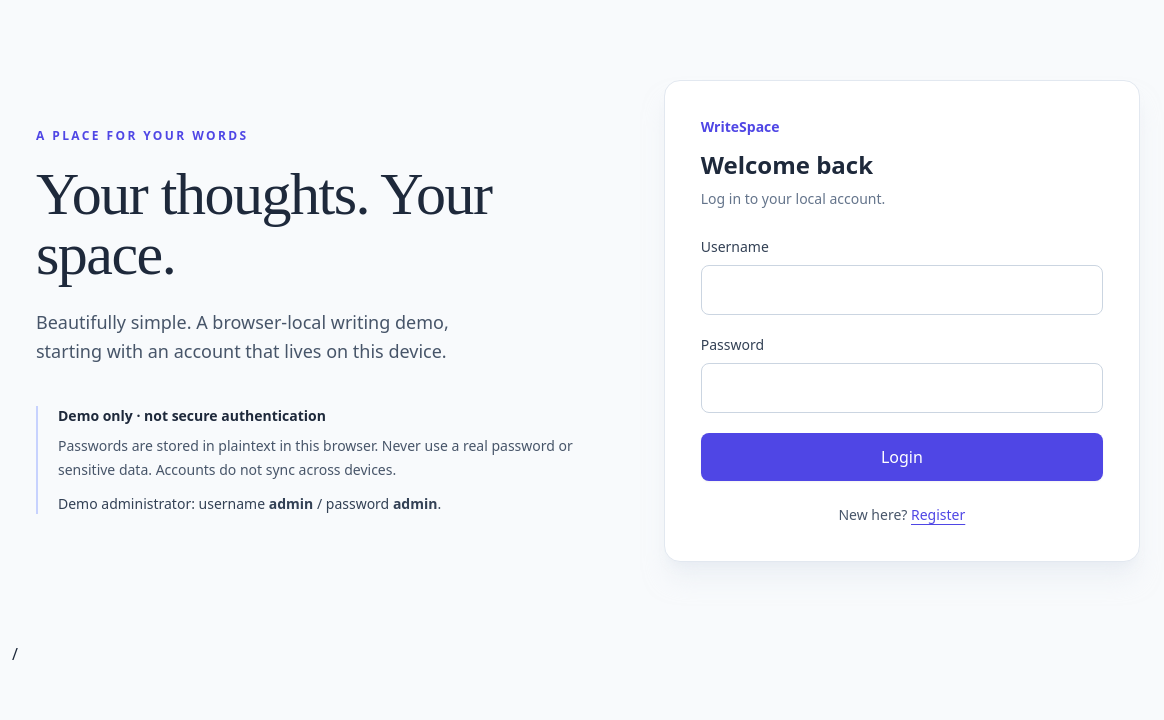
Test: LoginPage.jsx › shows visible demo warning, credential hint and required field errors
Expected: the text "Passwords are stored in plaintext" is shown, [58,436,573,479]
Expected: the text "Demo administrator: username admin / password admin." is shown, [58,494,441,513]
Click the button "Login": (902, 457) [701,433,1103,481]
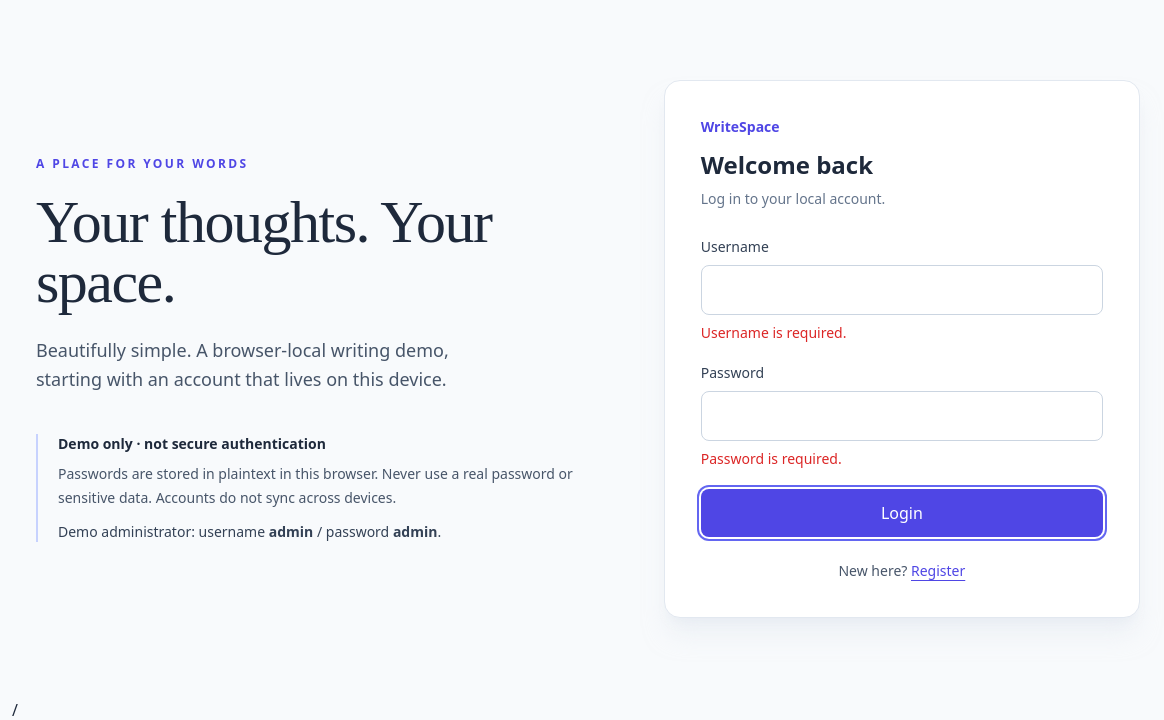
Expected: the text "Username is required." is shown, [701,323,846,342]
Expected: the text "Password is required." is shown, [701,449,842,468]
Click the link "Register": (938, 570) [911,561,965,580]
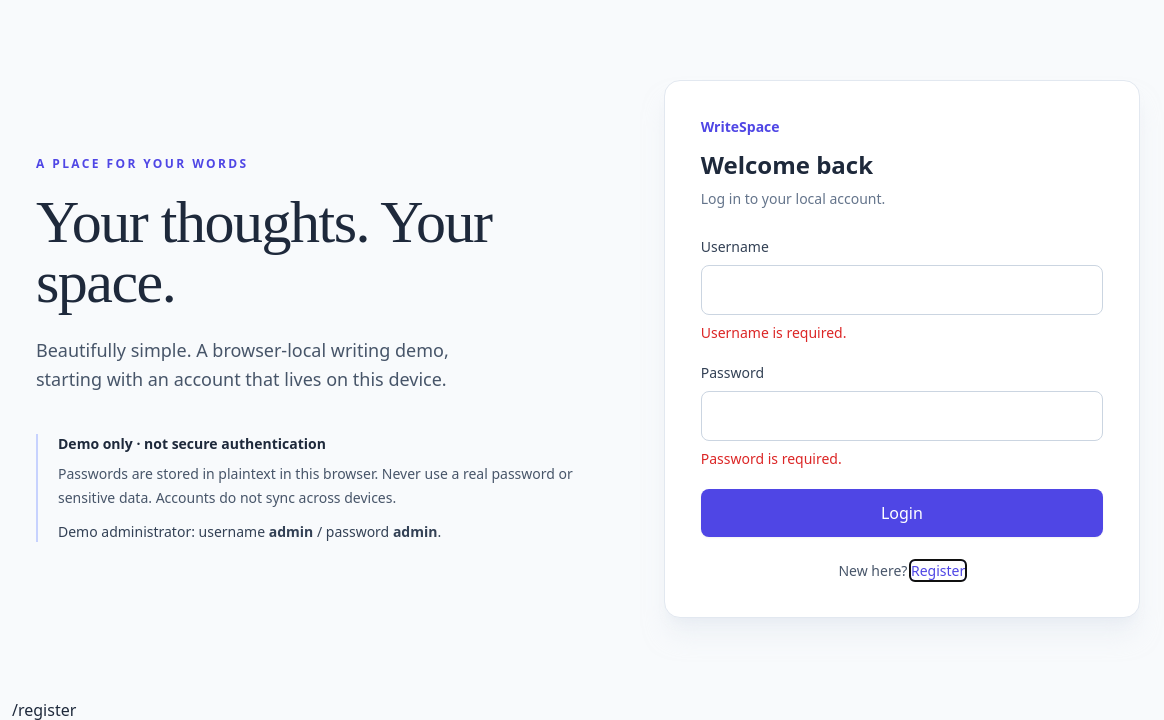
Expected: the text named "Current route" reads "/register", [12,699,76,719]
